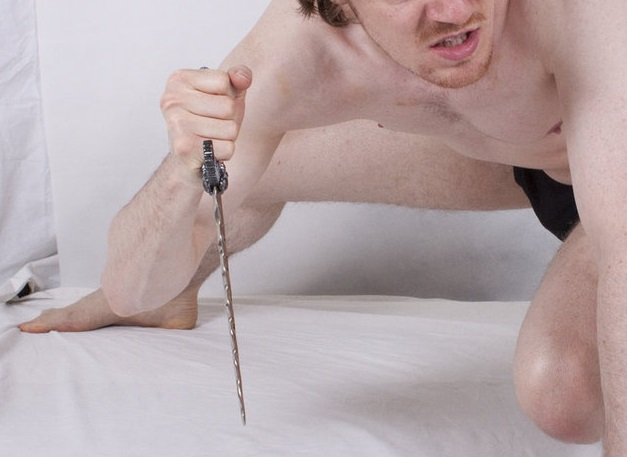knife: (152, 56, 265, 438)
